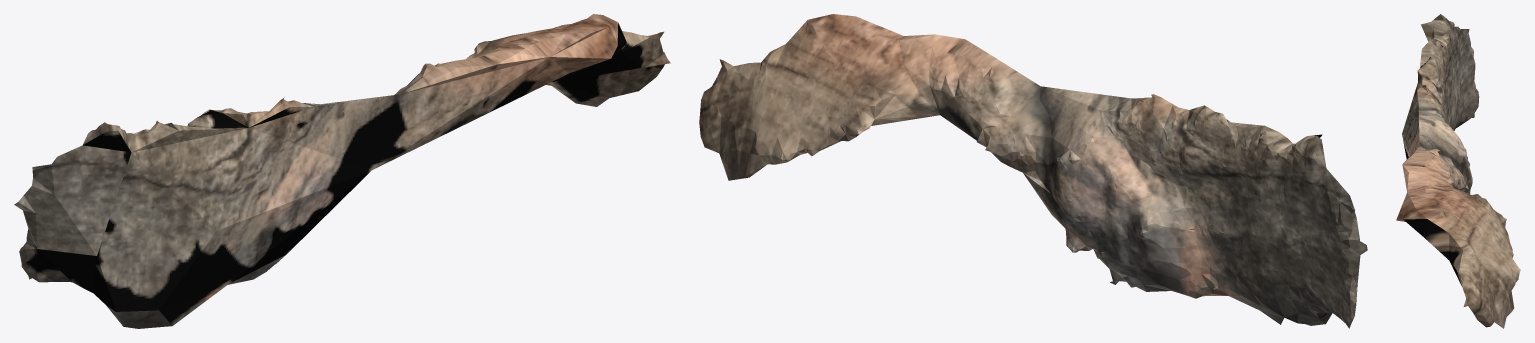
Rendered from texturedMesh.obj.
3 renders of one model, left to right at view 1: azimuth 30°, elevation 25°; view 2: azimuth 150°, elevation 25°; view 3: azimuth 270°, elevation 25°, orthographic. The views are drawn at different scales.
Visible parts, largest first — view 1: TexturedMesh; view 2: TexturedMesh; view 3: TexturedMesh.
Boxes of the visible parts, <box> form: TexturedMesh: <box>14,14,670,328</box>; TexturedMesh: <box>699,14,1367,328</box>; TexturedMesh: <box>1396,14,1520,328</box>.
Bounding box in the file's own units: 1.01 × 0.3017 × 0.2153.
Materials: 1 (1 with a texture image).
